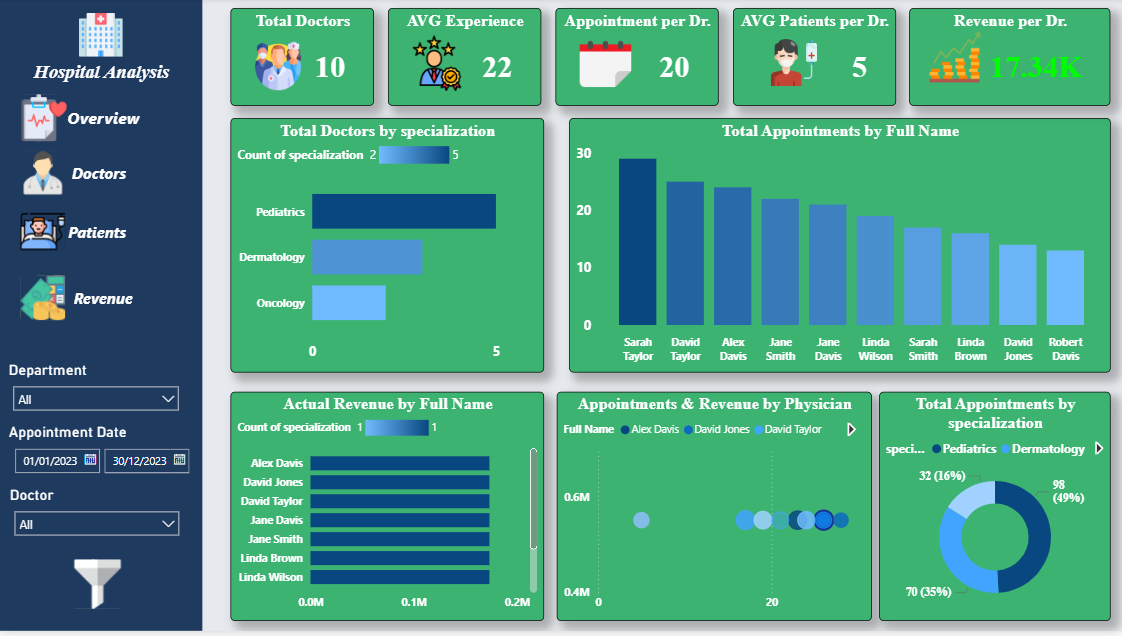

The page's visual inventory and layout, read from the dashboard file:
{"tool":"powerbi","page":{"name":"Doctors","canvas":[1280,720],"ordinal":1},"visuals":[{"type":"shape","box":[0,0,232.5,720],"z":0},{"type":"textbox","box":[20.9,67,193.4,37.4],"z":1000},{"type":"actionButton","box":[20.9,104.4,144,64.8],"z":2000},{"type":"actionButton","box":[20.9,169.2,128.6,59.3],"z":3000},{"type":"slicer","title":"Department","fields":{"Values":["doctors.specialization"]},"box":[7.7,412.1,208.8,71.4],"z":4000},{"type":"slicer","title":"Appointment Date","fields":{"Values":["appointments.appointment_date"]},"box":[7.7,483.5,219.8,71.4],"z":5000},{"type":"slicer","title":"Doctor","fields":{"Values":["doctors.Full Name"]},"box":[8.8,554.9,207.7,71.4],"z":6000},{"type":"image","box":[87.9,17.6,57.1,49.5],"z":7000},{"type":"actionButton","box":[20.9,236.3,128.6,59.3],"z":8000},{"type":"actionButton","box":[20.9,312.1,136.3,59.3],"z":9000},{"type":"cardVisual","title":"Total Doctors","fields":{"Data":["measuress.Total Doctors"]},"box":[264.8,11,163.3,111.1],"z":10000},{"type":"image","box":[289.5,49.4,57.6,54.9],"z":11000},{"type":"cardVisual","title":"AVG Experience","fields":{"Data":["measuress.Avg Experience"]},"box":[444.3,11,174.3,111.1],"z":12000},{"type":"image","box":[467.9,42.5,63.1,63.1],"z":13000},{"type":"cardVisual","title":"Appointment per Dr.","fields":{"Data":["measuress.Appointments per Doctor"]},"box":[634.7,11,185.2,111.1],"z":14000},{"type":"image","box":[650.4,42.5,82.3,64.5],"z":15000},{"type":"clusteredBarChart","fields":{"Category":["doctors.specialization"],"Y":["measuress.Total Doctors"]},"box":[264.8,137.2,356.8,289.5],"z":16000},{"type":"columnChart","fields":{"Y":["measuress.Total Appointments"],"Category":["doctors.Full Name"]},"box":[650.4,137.2,616.1,289.5],"z":17000},{"type":"barChart","fields":{"Category":["doctors.Full Name"],"Y":["measuress.Actual Revenue"]},"box":[264.8,447.3,356.8,260.7],"z":18000},{"type":"scatterChart","title":"Appointments & Revenue by Physician","fields":{"X":["doctors.years_experience"],"Y":["measuress.Total Revenue"],"Series":["doctors.Full Name"],"Size":["measuress.Total Appointments"]},"box":[635.3,447.3,358.1,260.7],"z":19000},{"type":"cardVisual","title":"AVG Patients per Dr.","fields":{"Data":["measuress.Avg Patients per Doctor"]},"box":[836,11,185.2,111.1],"z":20000},{"type":"image","box":[878.2,42.5,56.3,61.7],"z":21000},{"type":"cardVisual","title":"Revenue per Dr.","fields":{"Data":["measuress.Revenue per Doctor"]},"box":[1037.4,11,229.2,111.1],"z":22000},{"type":"image","box":[1049.7,38.4,78.2,57.6],"z":23000},{"type":"donutChart","fields":{"Category":["doctors.specialization"],"Y":["measuress.Total Appointments"]},"box":[1003.1,447.3,263.5,260.7],"z":24000},{"type":"actionButton","box":[81,625.7,64.5,82.3],"z":25000}]}

Visuals, with their boxes in screenshot pixels (x1, y1, x2, y2), scaled from the page's 1280x720 canvas onto the 1122x636 screenshot:
shape: (x1=0, y1=0, x2=204, y2=635)
textbox: (x1=18, y1=59, x2=188, y2=92)
actionButton: (x1=18, y1=92, x2=145, y2=149)
actionButton: (x1=18, y1=149, x2=131, y2=202)
"Department" slicer: (x1=7, y1=364, x2=190, y2=427)
"Appointment Date" slicer: (x1=7, y1=427, x2=199, y2=490)
"Doctor" slicer: (x1=8, y1=490, x2=190, y2=553)
image: (x1=77, y1=16, x2=127, y2=59)
actionButton: (x1=18, y1=209, x2=131, y2=261)
actionButton: (x1=18, y1=276, x2=138, y2=328)
"Total Doctors" cardVisual: (x1=232, y1=10, x2=375, y2=108)
image: (x1=254, y1=44, x2=304, y2=92)
"AVG Experience" cardVisual: (x1=389, y1=10, x2=542, y2=108)
image: (x1=410, y1=38, x2=465, y2=93)
"Appointment per Dr." cardVisual: (x1=556, y1=10, x2=719, y2=108)
image: (x1=570, y1=38, x2=642, y2=95)
clusteredBarChart - doctors.specialization x measuress.Total Doctors: (x1=232, y1=121, x2=545, y2=377)
columnChart - measuress.Total Appointments x doctors.Full Name: (x1=570, y1=121, x2=1110, y2=377)
barChart - doctors.Full Name x measuress.Actual Revenue: (x1=232, y1=395, x2=545, y2=625)
"Appointments & Revenue by Physician" scatterChart: (x1=557, y1=395, x2=871, y2=625)
"AVG Patients per Dr." cardVisual: (x1=733, y1=10, x2=895, y2=108)
image: (x1=770, y1=38, x2=819, y2=92)
"Revenue per Dr." cardVisual: (x1=909, y1=10, x2=1110, y2=108)
image: (x1=920, y1=34, x2=989, y2=85)
donutChart - doctors.specialization x measuress.Total Appointments: (x1=879, y1=395, x2=1110, y2=625)
actionButton: (x1=71, y1=553, x2=128, y2=625)
